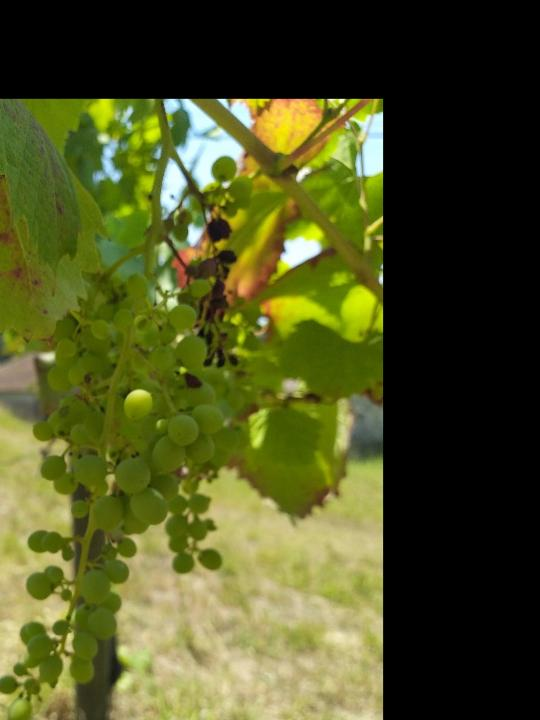grape: (0, 272, 248, 720), (183, 210, 255, 367)
